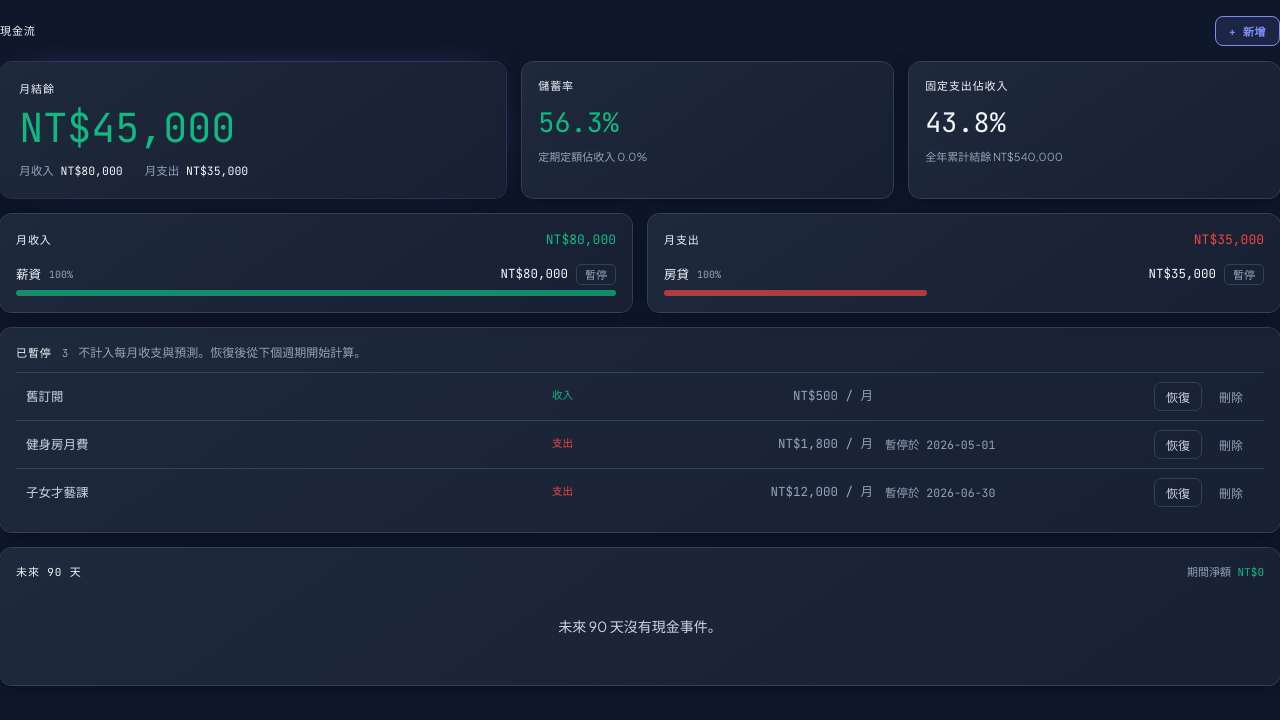
WealthCashView: deleting › asks first, and cancelling deletes nothing
Expected: the text "月收入" is shown, x1=16 y1=232 x2=52 y2=249
Expected: the text "薪資" is shown, x1=16 y1=265 x2=41 y2=284
Step 1. Click the button "刪除" in the row of "暫停於 2026-05-01" → (1231, 444), box x1=1208 y1=430 x2=1254 y2=459
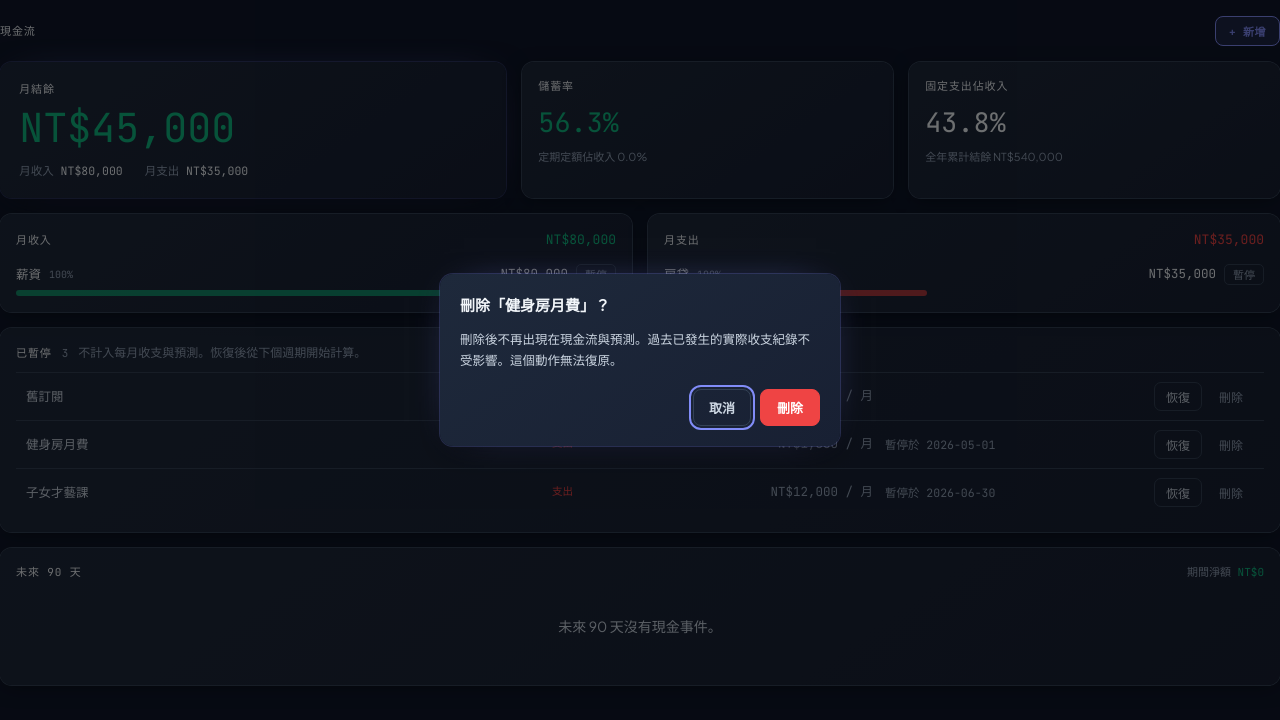
Now the text "刪除後不再出現在現金流與預測。過去已發生的實際收支紀錄不受影響。這個動作無法復原。" is shown, box x1=460 y1=328 x2=820 y2=371
Step 2. Click the button "取消" → (722, 408), box x1=693 y1=389 x2=751 y2=426
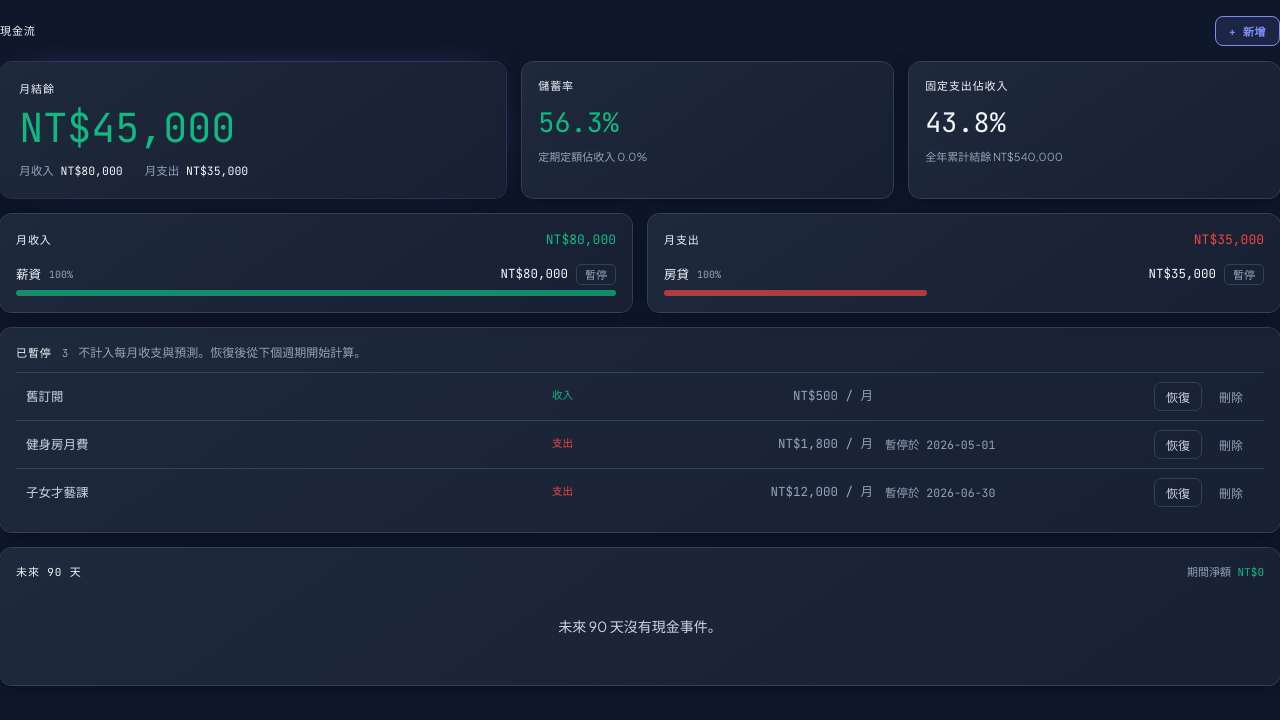
Now the dialog is gone
